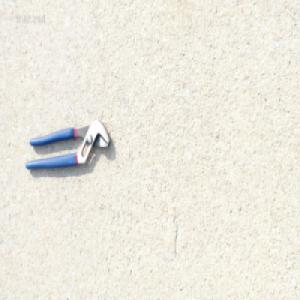Pliers: (22, 117, 109, 173)
